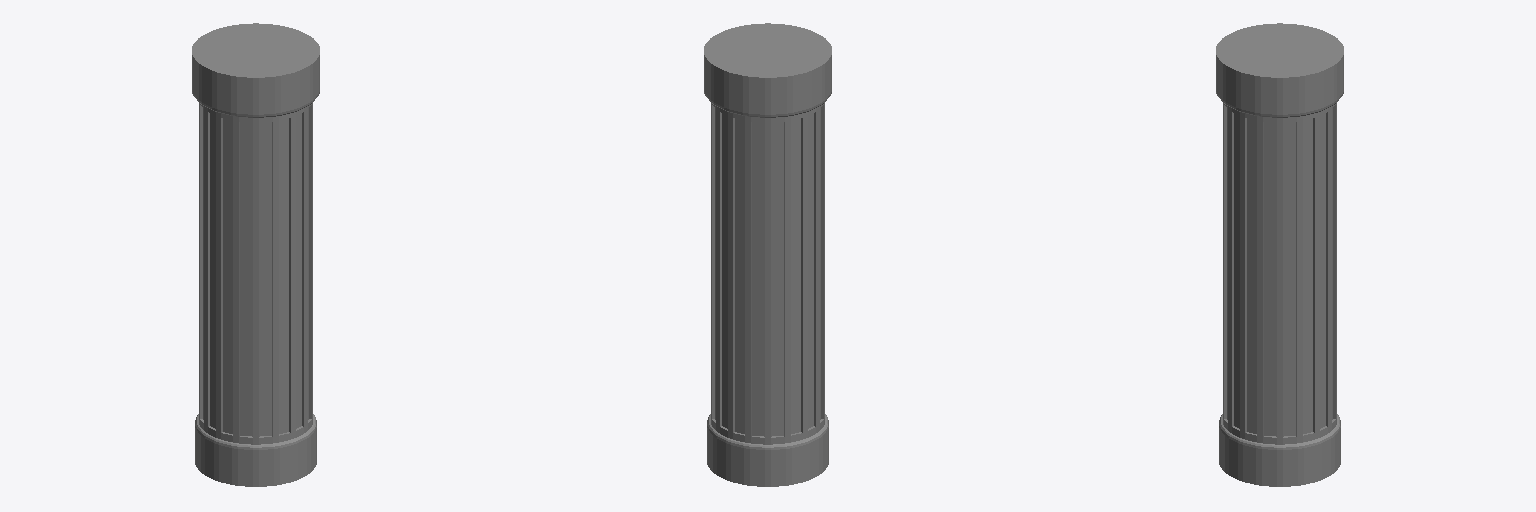
The model's file is temple_block_low.obj.
The picture shows the model from 3 angles: view 1: azimuth 30°, elevation 25°; view 2: azimuth 150°, elevation 25°; view 3: azimuth 270°, elevation 25°; orthographic projection.
Visible parts, largest first — view 1: Cylinder001; view 2: Cylinder001; view 3: Cylinder001.
Part boxes in pixels (x1,y1,x2,y2): Cylinder001: (192,23,319,486); Cylinder001: (704,23,831,486); Cylinder001: (1216,23,1343,486).
Size of the model in its own units: 38.17 by 134 by 37.94.